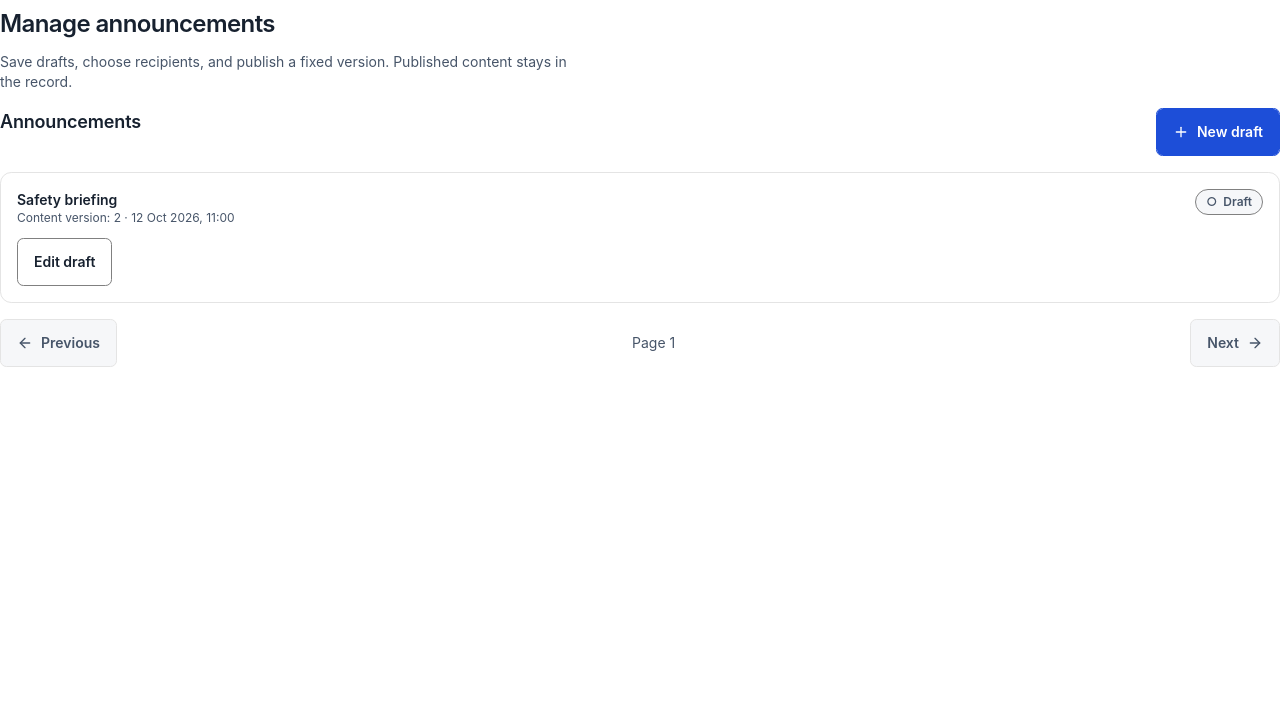
Test: guards pending scheduling and retries the exact uncertain command before closing the editor
The width and height of the screenshot is (1280, 720).
Click the button "Edit draft". click: (65, 262)
box: x1=17 y1=238 x2=112 y2=286
(page scrolled)
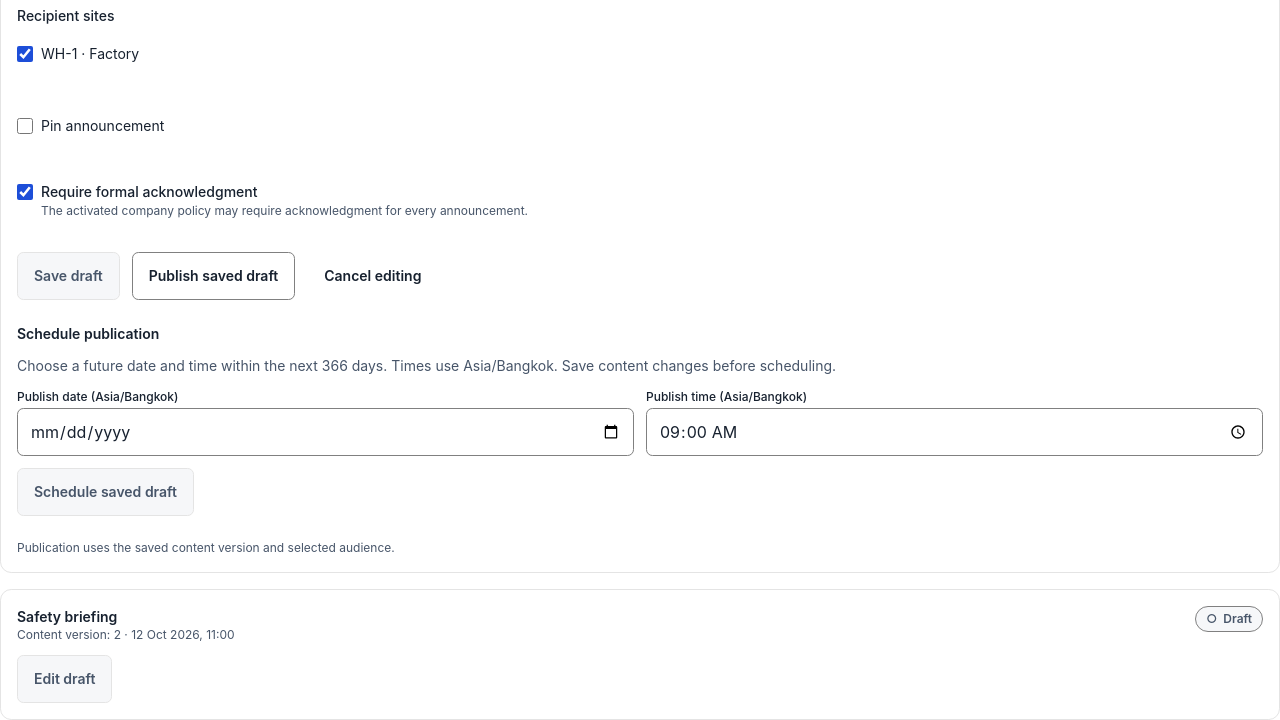
Type "2026-11-03" into the date field labelled "Publish date (Asia/Bangkok)". click: (326, 432)
box: x1=17 y1=408 x2=634 y2=456
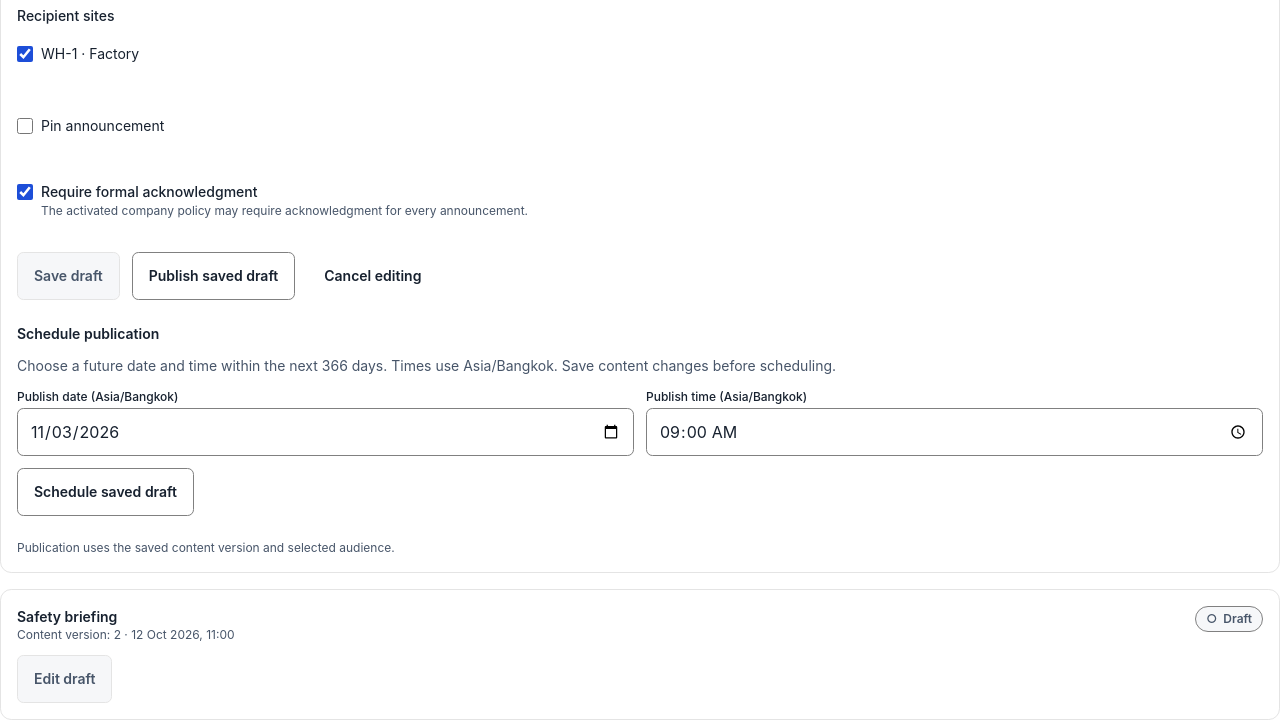
Click the button "Schedule saved draft". click: (106, 492)
box: x1=17 y1=468 x2=194 y2=516
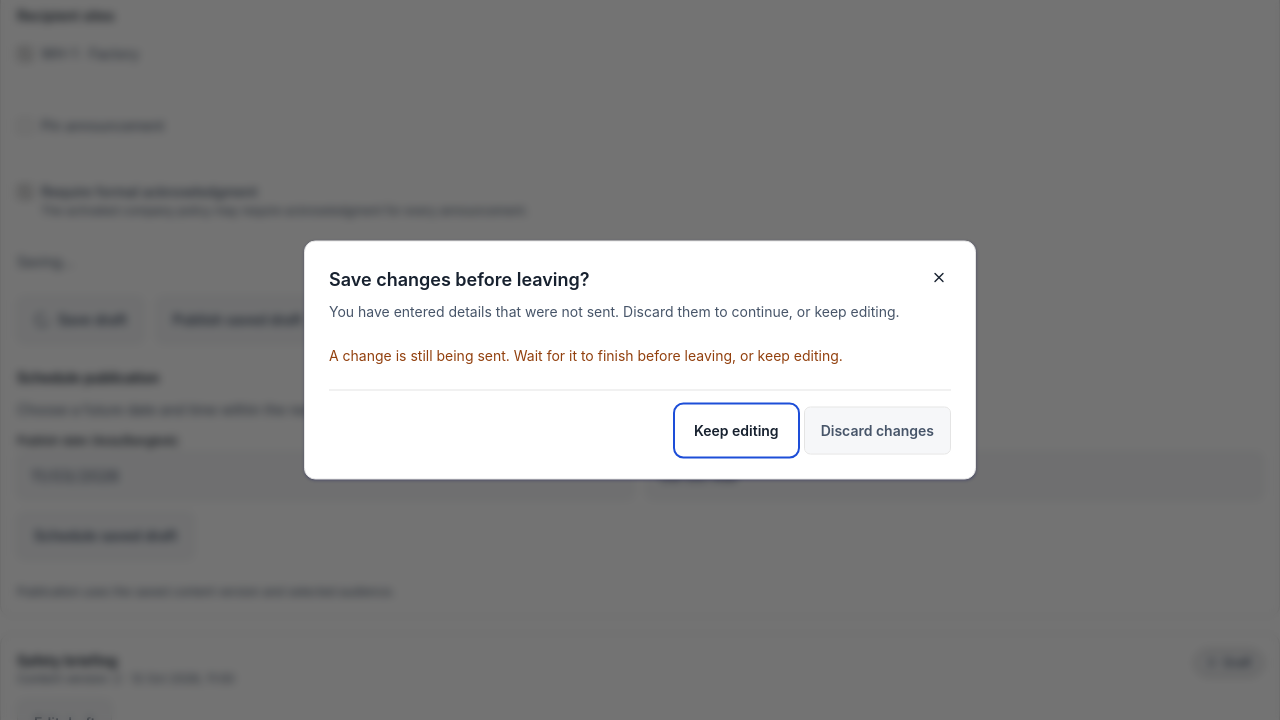
Result: the message with test id "navigation-guard-pending" is shown at x1=329 y1=346 x2=843 y2=364
Click the button "Keep editing". click: (736, 430)
box: x1=677 y1=406 x2=796 y2=454
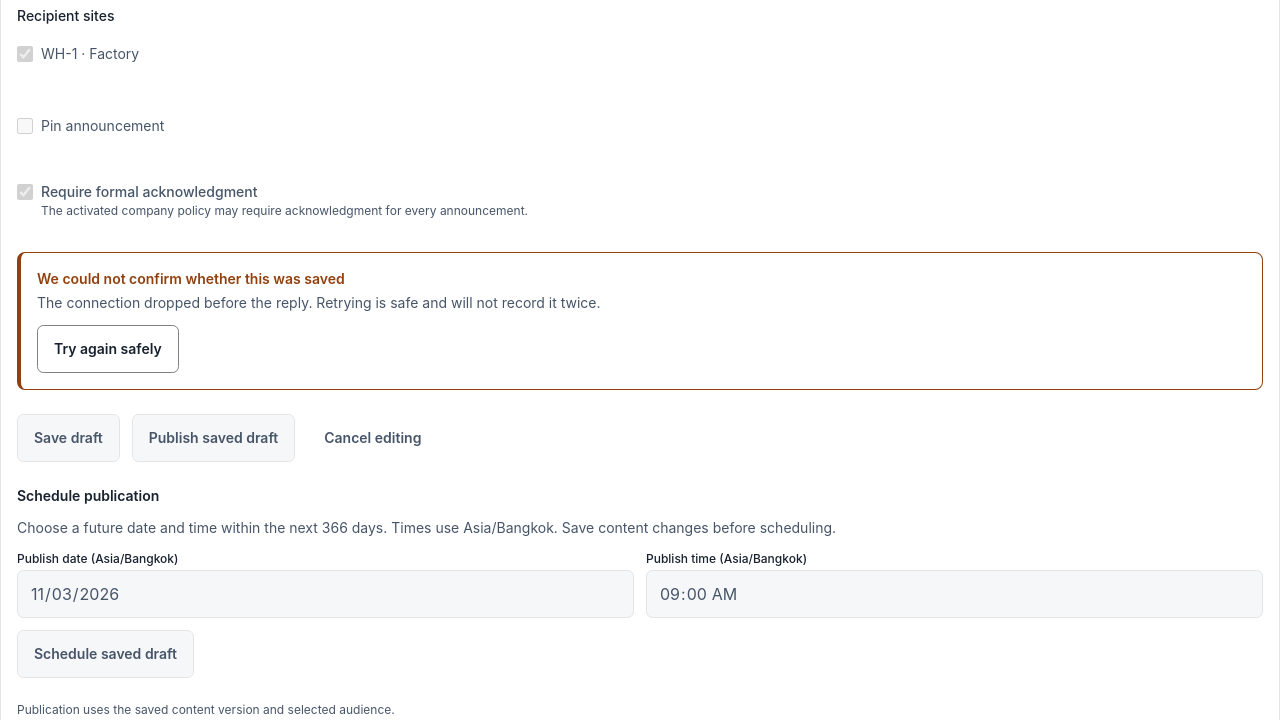
Result: the date field labelled "Publish date (Asia/Bangkok)" is disabled at x1=17 y1=570 x2=634 y2=618
Result: the message with test id "hr-write-uncertain" is shown at x1=17 y1=252 x2=1263 y2=390
Click the button "Try again safely". click: (108, 349)
box: x1=37 y1=325 x2=179 y2=373
(page scrolled)
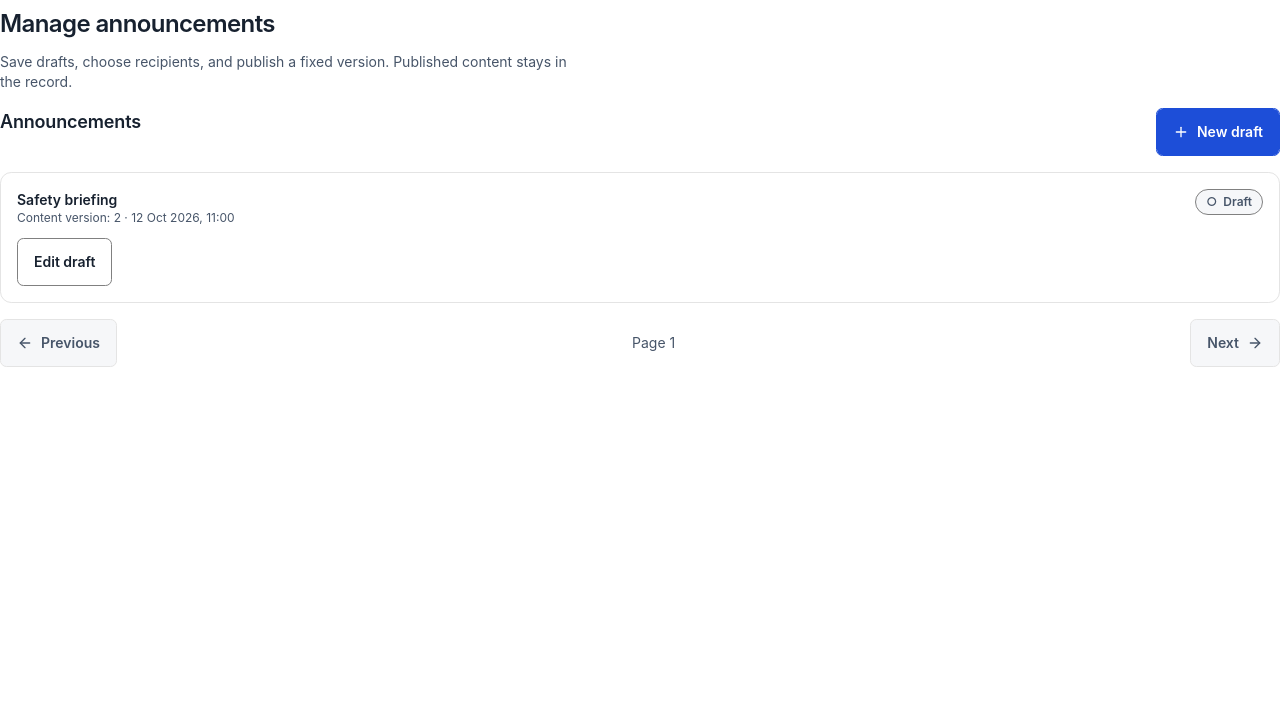
Result: the button "Schedule saved draft" is gone
